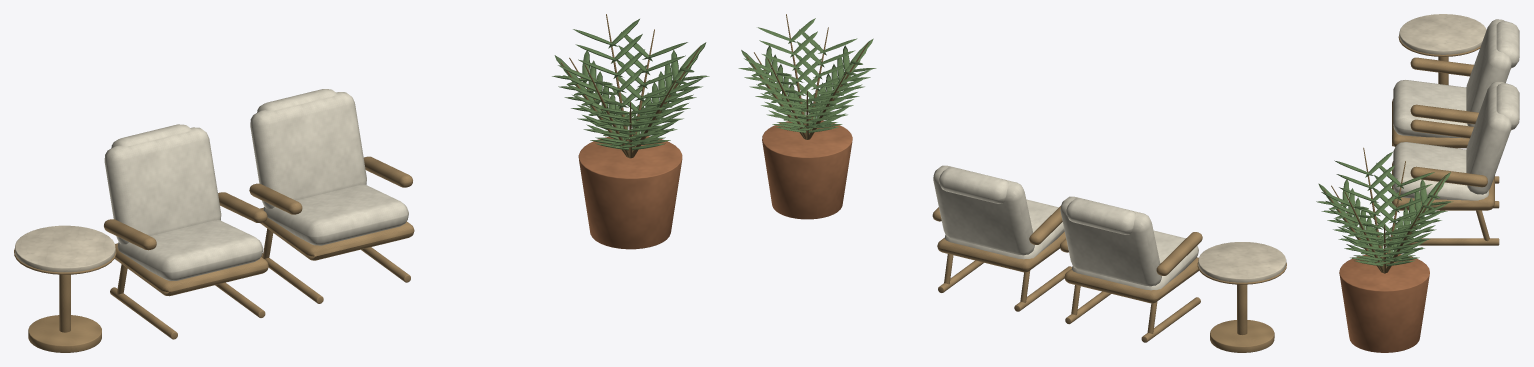
File: coast-furniture.glb
3 renders of one model, left to right at view 1: azimuth 30°, elevation 25°; view 2: azimuth 150°, elevation 25°; view 3: azimuth 270°, elevation 25°, orthographic. The views are drawn at different scales.
Visible parts, largest first — view 1: Sculpted seat cushion, Sled front foot, Glazed botanical planter, Fine palm leaflet, Honed stone side table, Arching palm stem; view 2: Sculpted seat cushion, Sled front foot, Glazed botanical planter, Fine palm leaflet, Honed stone side table, Arching palm stem; view 3: Sculpted seat cushion, Glazed botanical planter, Fine palm leaflet, Sled front foot, Honed stone side table, Arching palm stem.
Part boxes in pixels (bbox=[...]): Sculpted seat cushion: bbox=[104, 89, 408, 280]; Sled front foot: bbox=[14, 156, 414, 352]; Glazed botanical planter: bbox=[578, 134, 682, 249]; Fine palm leaflet: bbox=[552, 19, 709, 150]; Honed stone side table: bbox=[15, 225, 115, 272]; Arching palm stem: bbox=[561, 14, 700, 158]; Sculpted seat cushion: bbox=[933, 165, 1198, 290]; Sled front foot: bbox=[932, 206, 1286, 352]; Glazed botanical planter: bbox=[762, 119, 852, 219]; Fine palm leaflet: bbox=[738, 18, 876, 132]; Honed stone side table: bbox=[1198, 242, 1286, 282]; Arching palm stem: bbox=[746, 14, 868, 139]; Sculpted seat cushion: bbox=[1393, 19, 1519, 200]; Glazed botanical planter: bbox=[1339, 253, 1429, 352]; Fine palm leaflet: bbox=[1316, 152, 1453, 266]; Sled front foot: bbox=[1392, 35, 1499, 245]; Honed stone side table: bbox=[1399, 14, 1486, 54]; Arching palm stem: bbox=[1324, 147, 1445, 273].
Size of the model in its own units: 4.42 by 1.25 by 1.39.
Materials: 7 (7 with a texture image).
